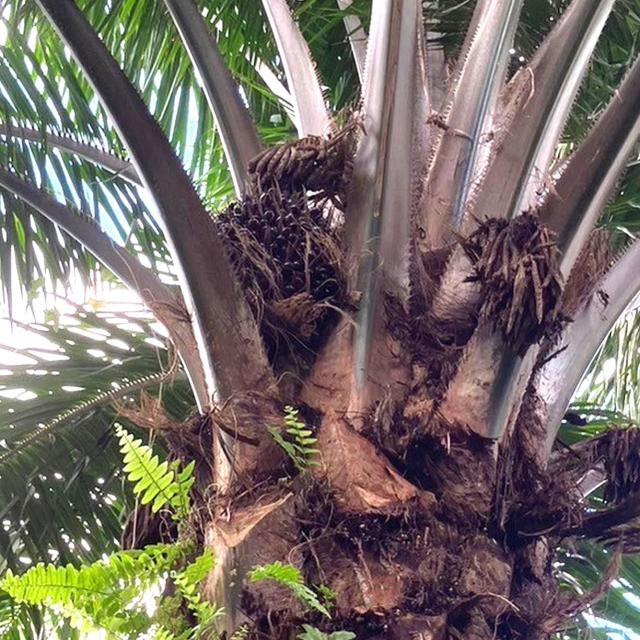ripe: (218, 190, 350, 367)
